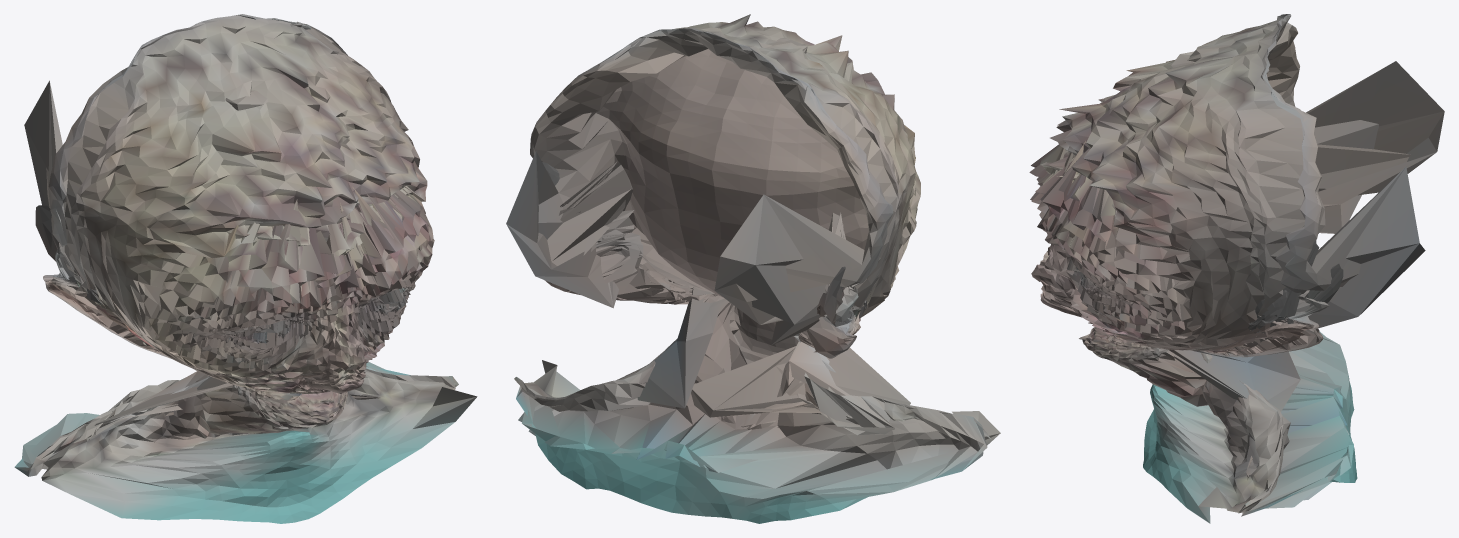
Rendered from chibi_textured_mesh.obj.
The picture shows the model from 3 angles, left to right: view 1: azimuth 30°, elevation 25°; view 2: azimuth 150°, elevation 25°; view 3: azimuth 270°, elevation 25°; orthographic projection. The views are drawn at different scales.
Bounding box in the file's own units: 0.327 × 0.3176 × 0.2812.
